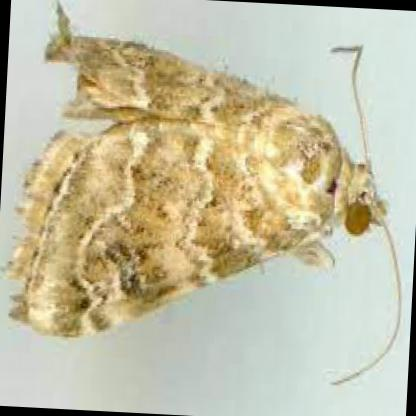Hellula undalis: (0, 0, 404, 391)
